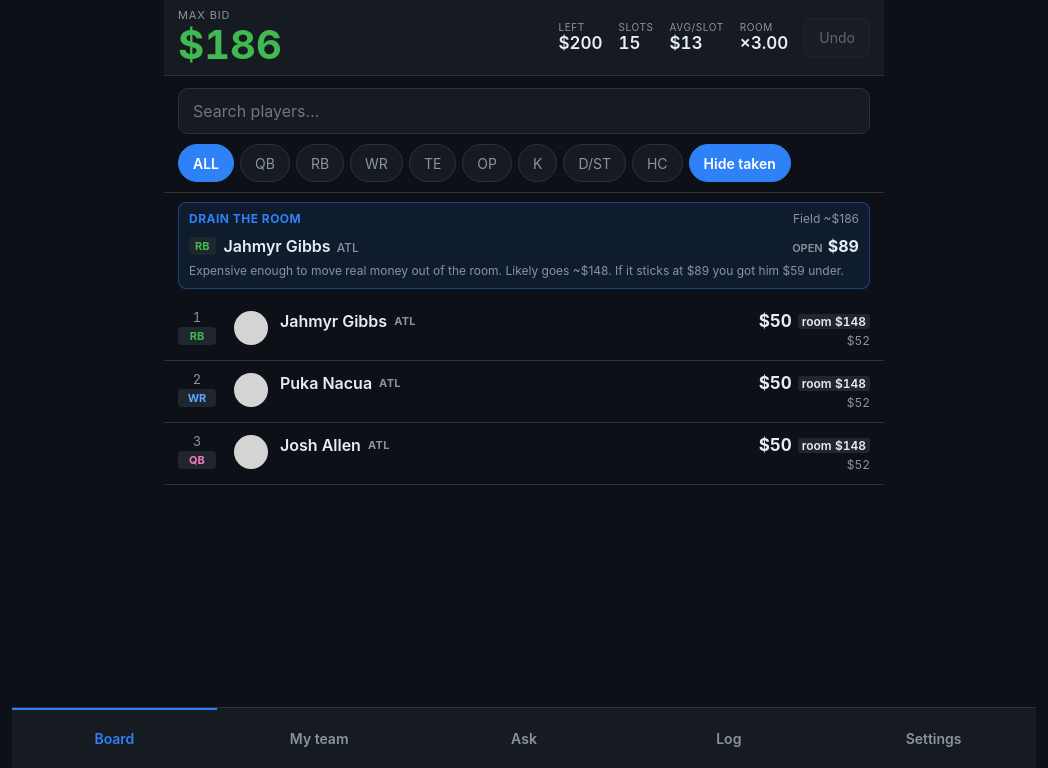
Test: draft board end to end › offers a retry after no credit instead of stranding the row
Click the text "Jahmyr Gibbs".
click(334, 321)  # box [280,311,387,331]
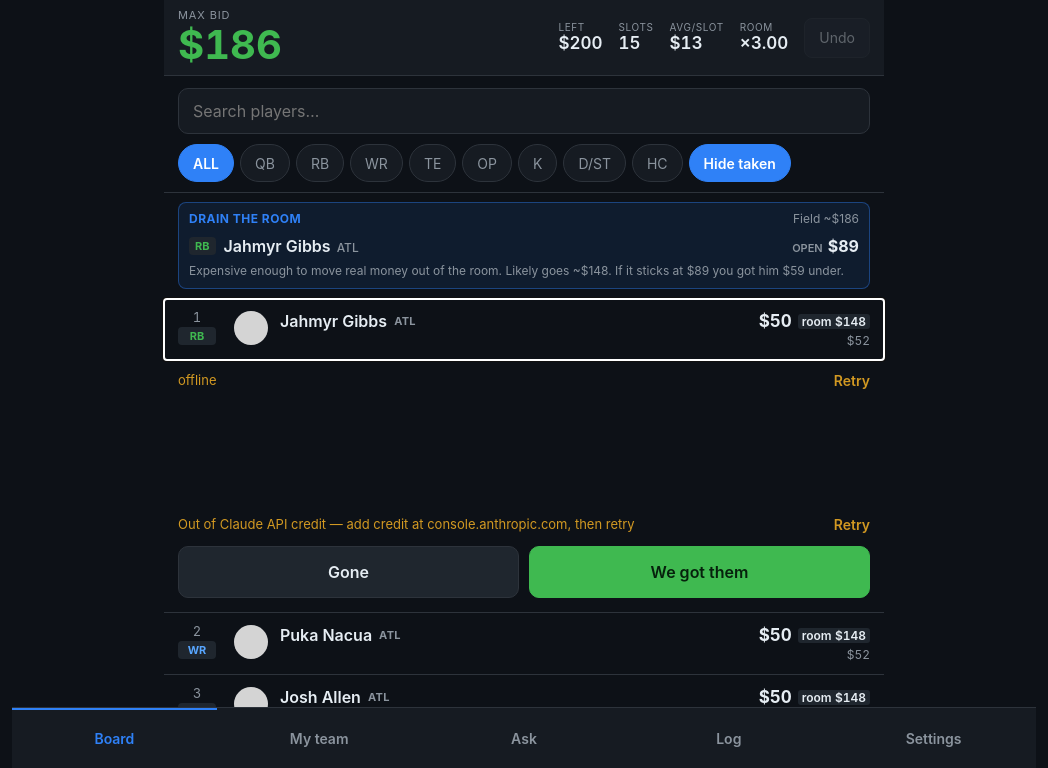
Expected: the text "Out of Claude API credit — add credit at console.anthropic.com, then retry" is shown, [178,516,635,532]
Click the 2nd button "Retry".
click(852, 524)  # box [834,516,870,533]
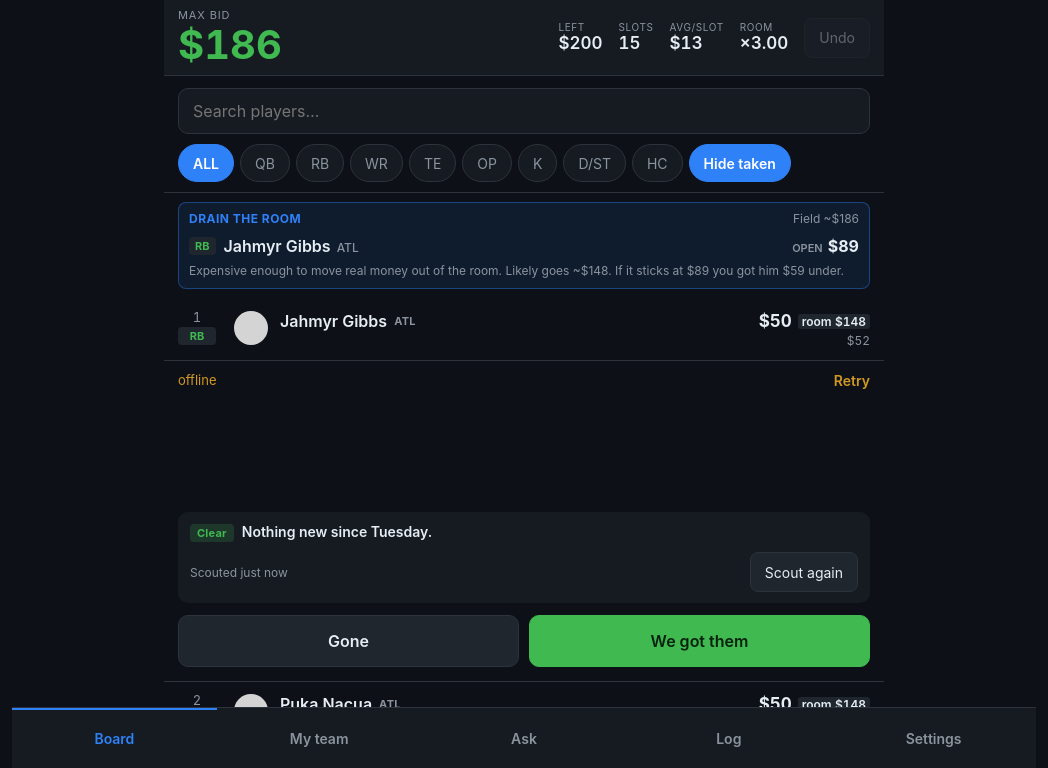
Expected: the element that starts with "Clear" shows "Nothing new since Tuesday", [242,523,432,540]
